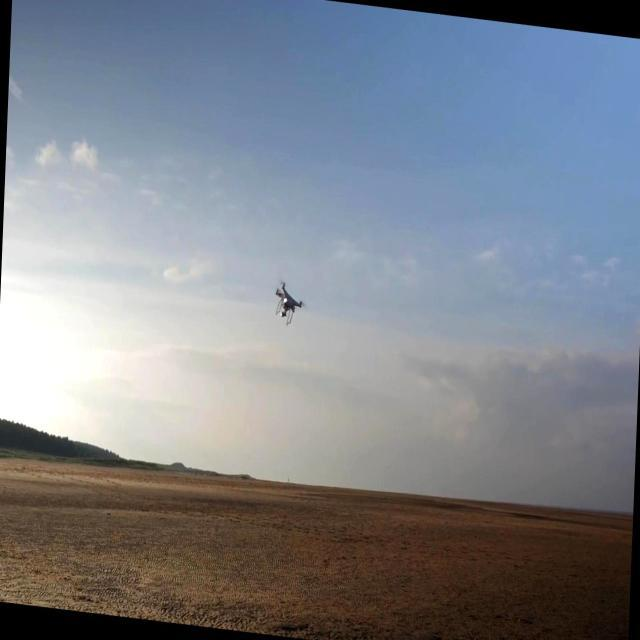drone: (270, 277, 304, 328)
